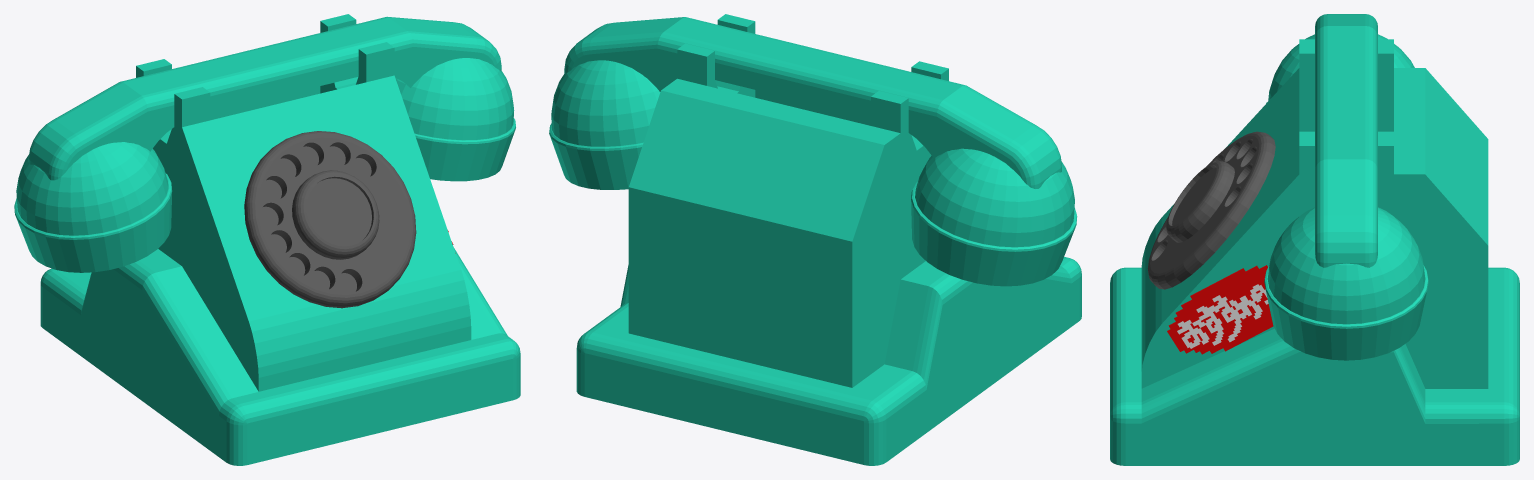
Rendered from noconnect.glb.
The picture shows the model from 3 angles, left to right: view 1: azimuth 30°, elevation 25°; view 2: azimuth 150°, elevation 25°; view 3: azimuth 270°, elevation 25°; orthographic projection. The views are drawn at different scales.
Parts seen in each view (by area): view 1: noconnect; view 2: noconnect; view 3: noconnect.
Part boxes in pixels (x1,y1,x2,y2): noconnect: (14, 14, 520, 465); noconnect: (549, 14, 1081, 465); noconnect: (1110, 14, 1519, 465).
Bounding box in the file's own units: 3.26 × 1.89 × 2.34.
Materials: 3 (1 with a texture image).
